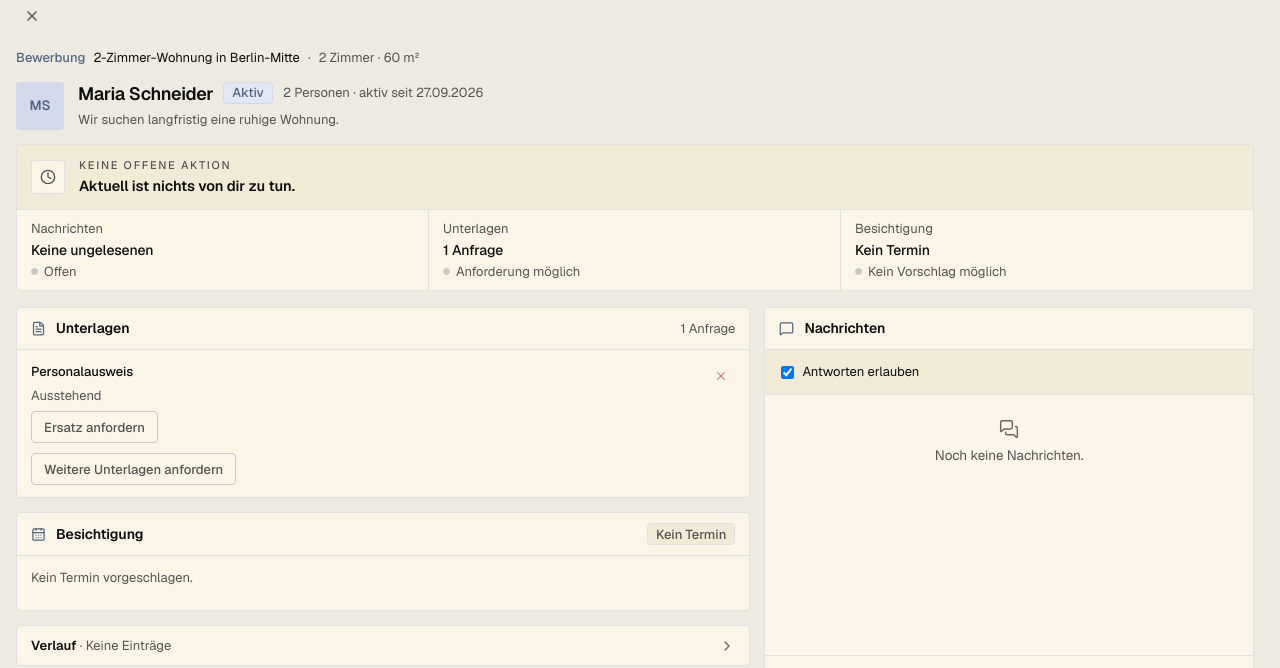
Test: document request cancellation › keeps the request visible when cancellation fails
Click the button named "Anfrage entfernen: Personalausweis" at [721, 376], box [707,362,735,390]
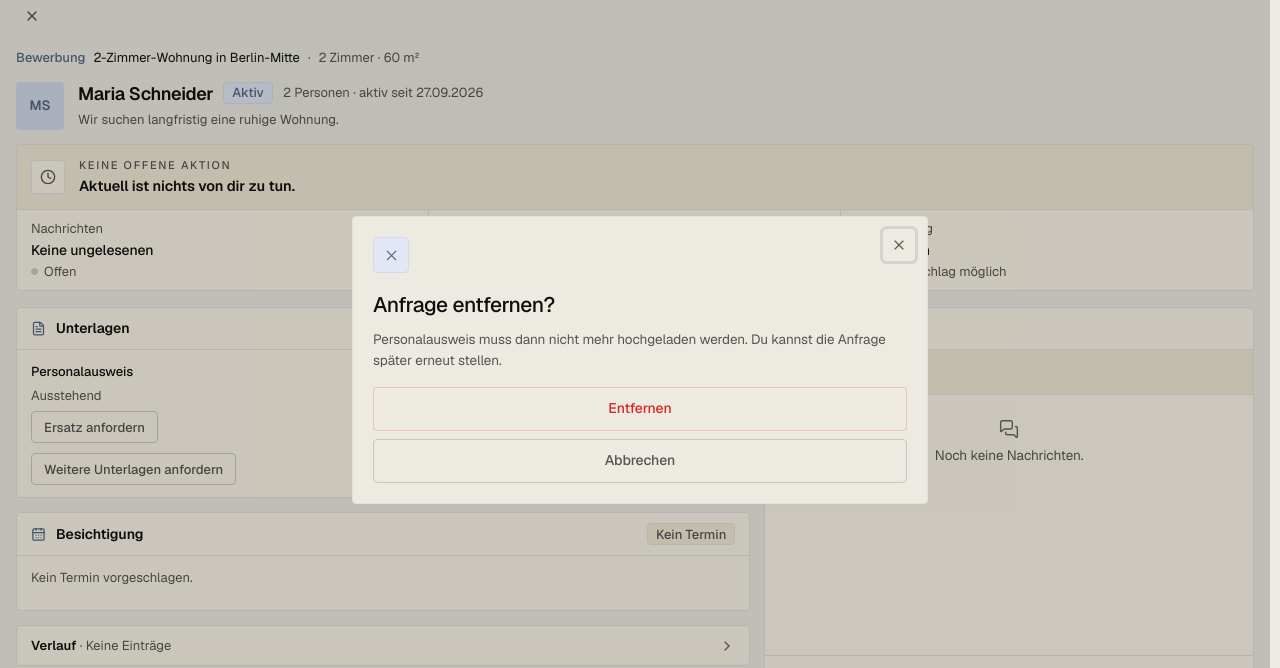
Click the button "Entfernen" at [640, 409], box [373,387,907,431]
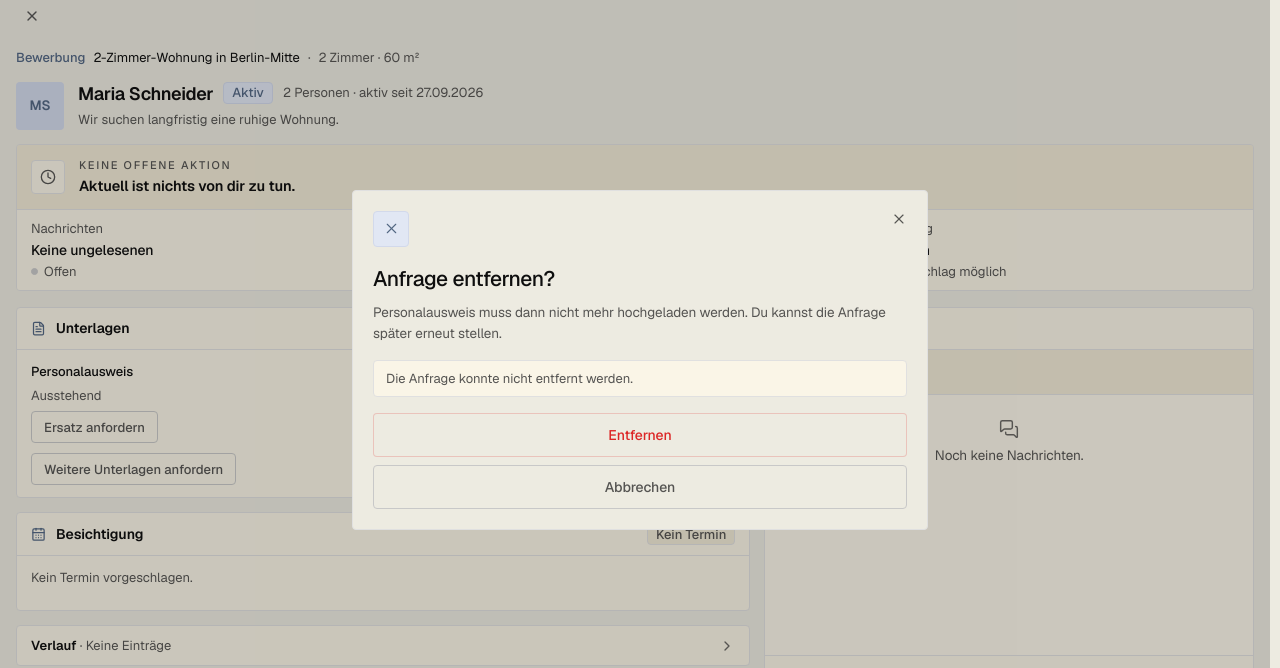
expect the text "Personalausweis" is shown: met, box [31,364,133,380]
expect the text "Die Anfrage konnte nicht entfernt werden." is shown: met, box [373,360,907,397]
